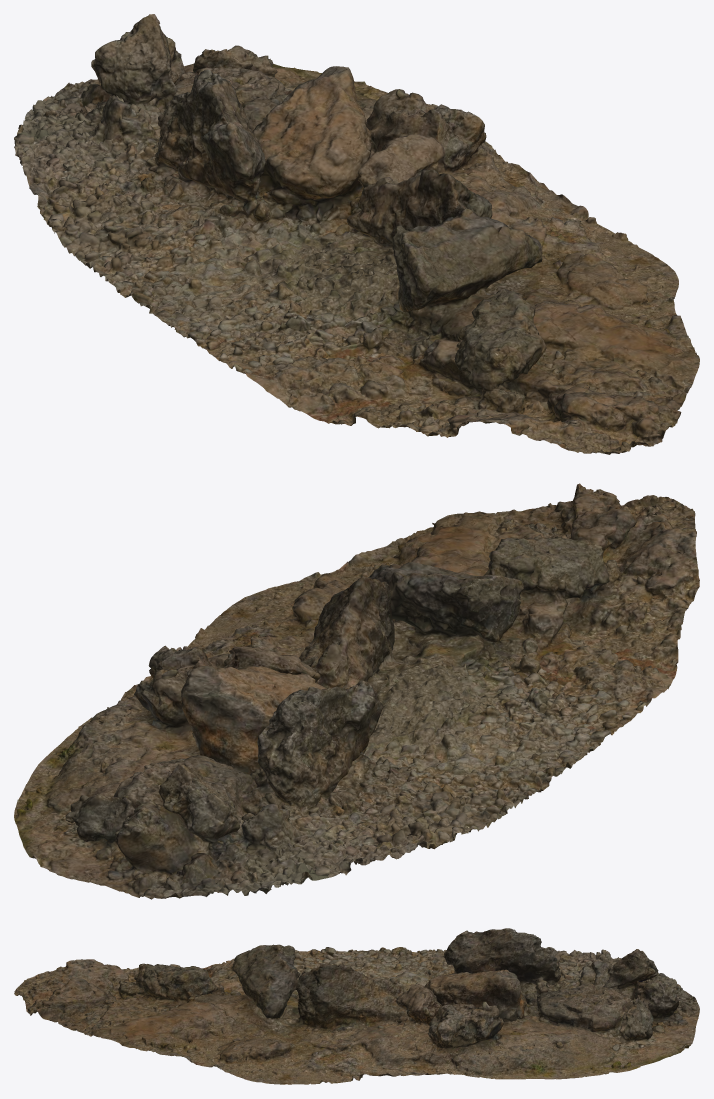
The model's file is rock-land.glb.
3 views of the same model, one above another, from view 1: azimuth 30°, elevation 25°; view 2: azimuth 150°, elevation 25°; view 3: azimuth 270°, elevation 25° (orthographic). The views are drawn at different scales.
Parts seen in each view (by area): view 1: coast_land_rocks_02; view 2: coast_land_rocks_02; view 3: coast_land_rocks_02.
Boxes of the visible parts, x1,y1,x2,y2 form: coast_land_rocks_02: (14, 14, 699, 454); coast_land_rocks_02: (14, 483, 699, 899); coast_land_rocks_02: (14, 928, 699, 1084).
Bounding box in the file's own units: 4.89 × 1.4 × 10.45.
Materials: 1 (1 with a texture image).
